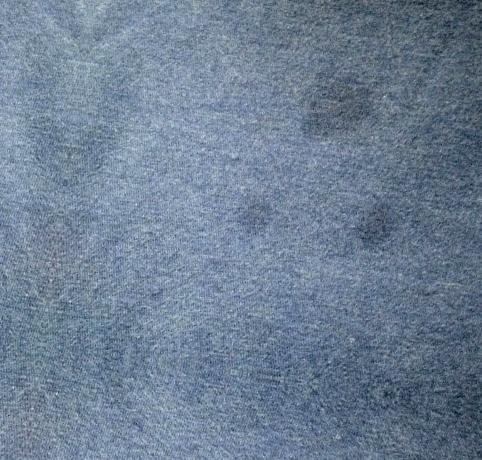stain: (291, 66, 373, 149), (354, 190, 407, 260), (228, 196, 277, 245)
